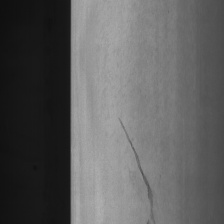water_spot: (115, 111, 158, 224)
